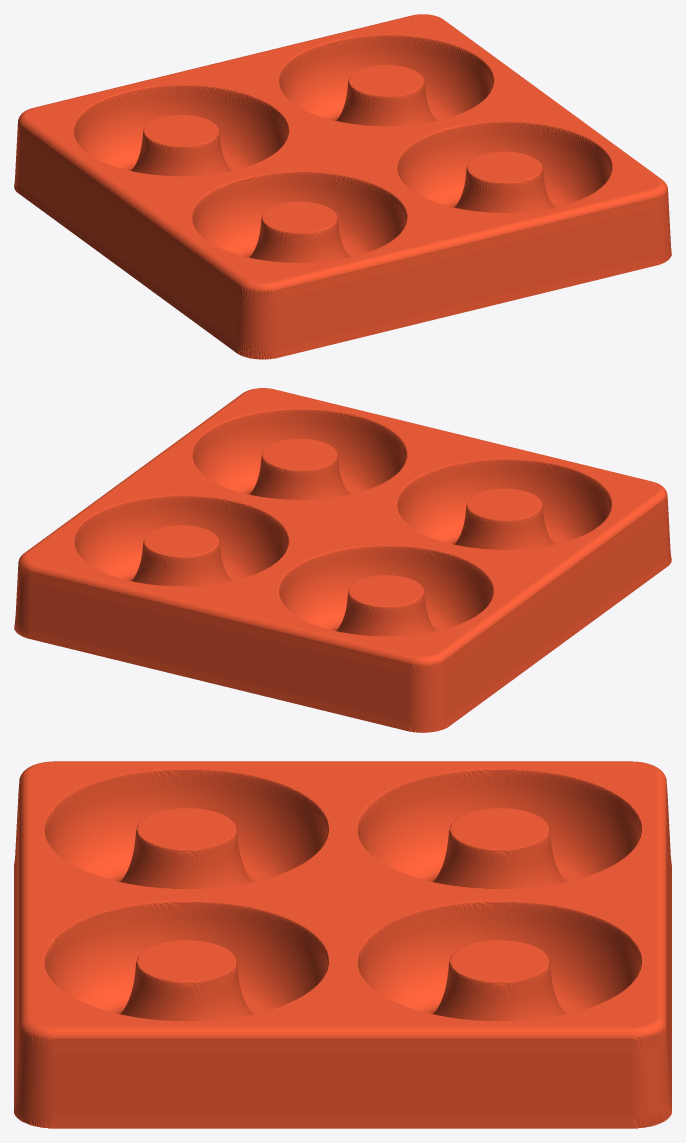
Rendered from mold.glb.
3 renders of one model, top to bottom at view 1: azimuth 30°, elevation 25°; view 2: azimuth 150°, elevation 25°; view 3: azimuth 270°, elevation 25°, orthographic. The views are drawn at different scales.
Visible parts, largest first — view 1: geometry_0; view 2: geometry_0; view 3: geometry_0.
Boxes of the visible parts, x1,y1,x2,y2 form: geometry_0: [14, 14, 671, 359]; geometry_0: [14, 388, 671, 732]; geometry_0: [14, 761, 671, 1128].
Bounding box in the file's own units: 0.1482 × 0.0235 × 0.1482.
